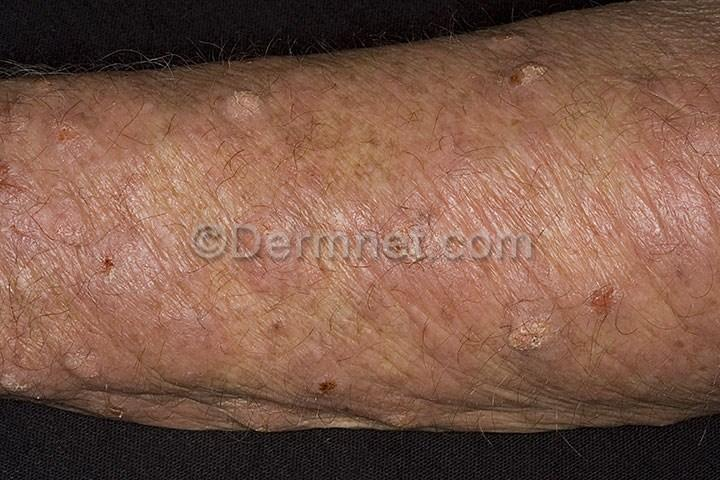Eczema: (535, 44, 686, 251), (16, 194, 173, 381), (331, 49, 513, 207), (345, 265, 479, 428), (199, 270, 350, 407), (10, 71, 170, 198), (490, 264, 646, 385), (182, 87, 334, 211)
